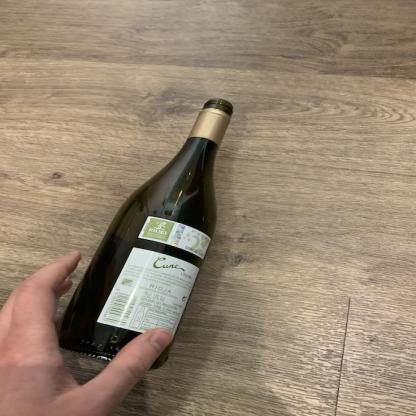trash: (58, 97, 240, 370)
